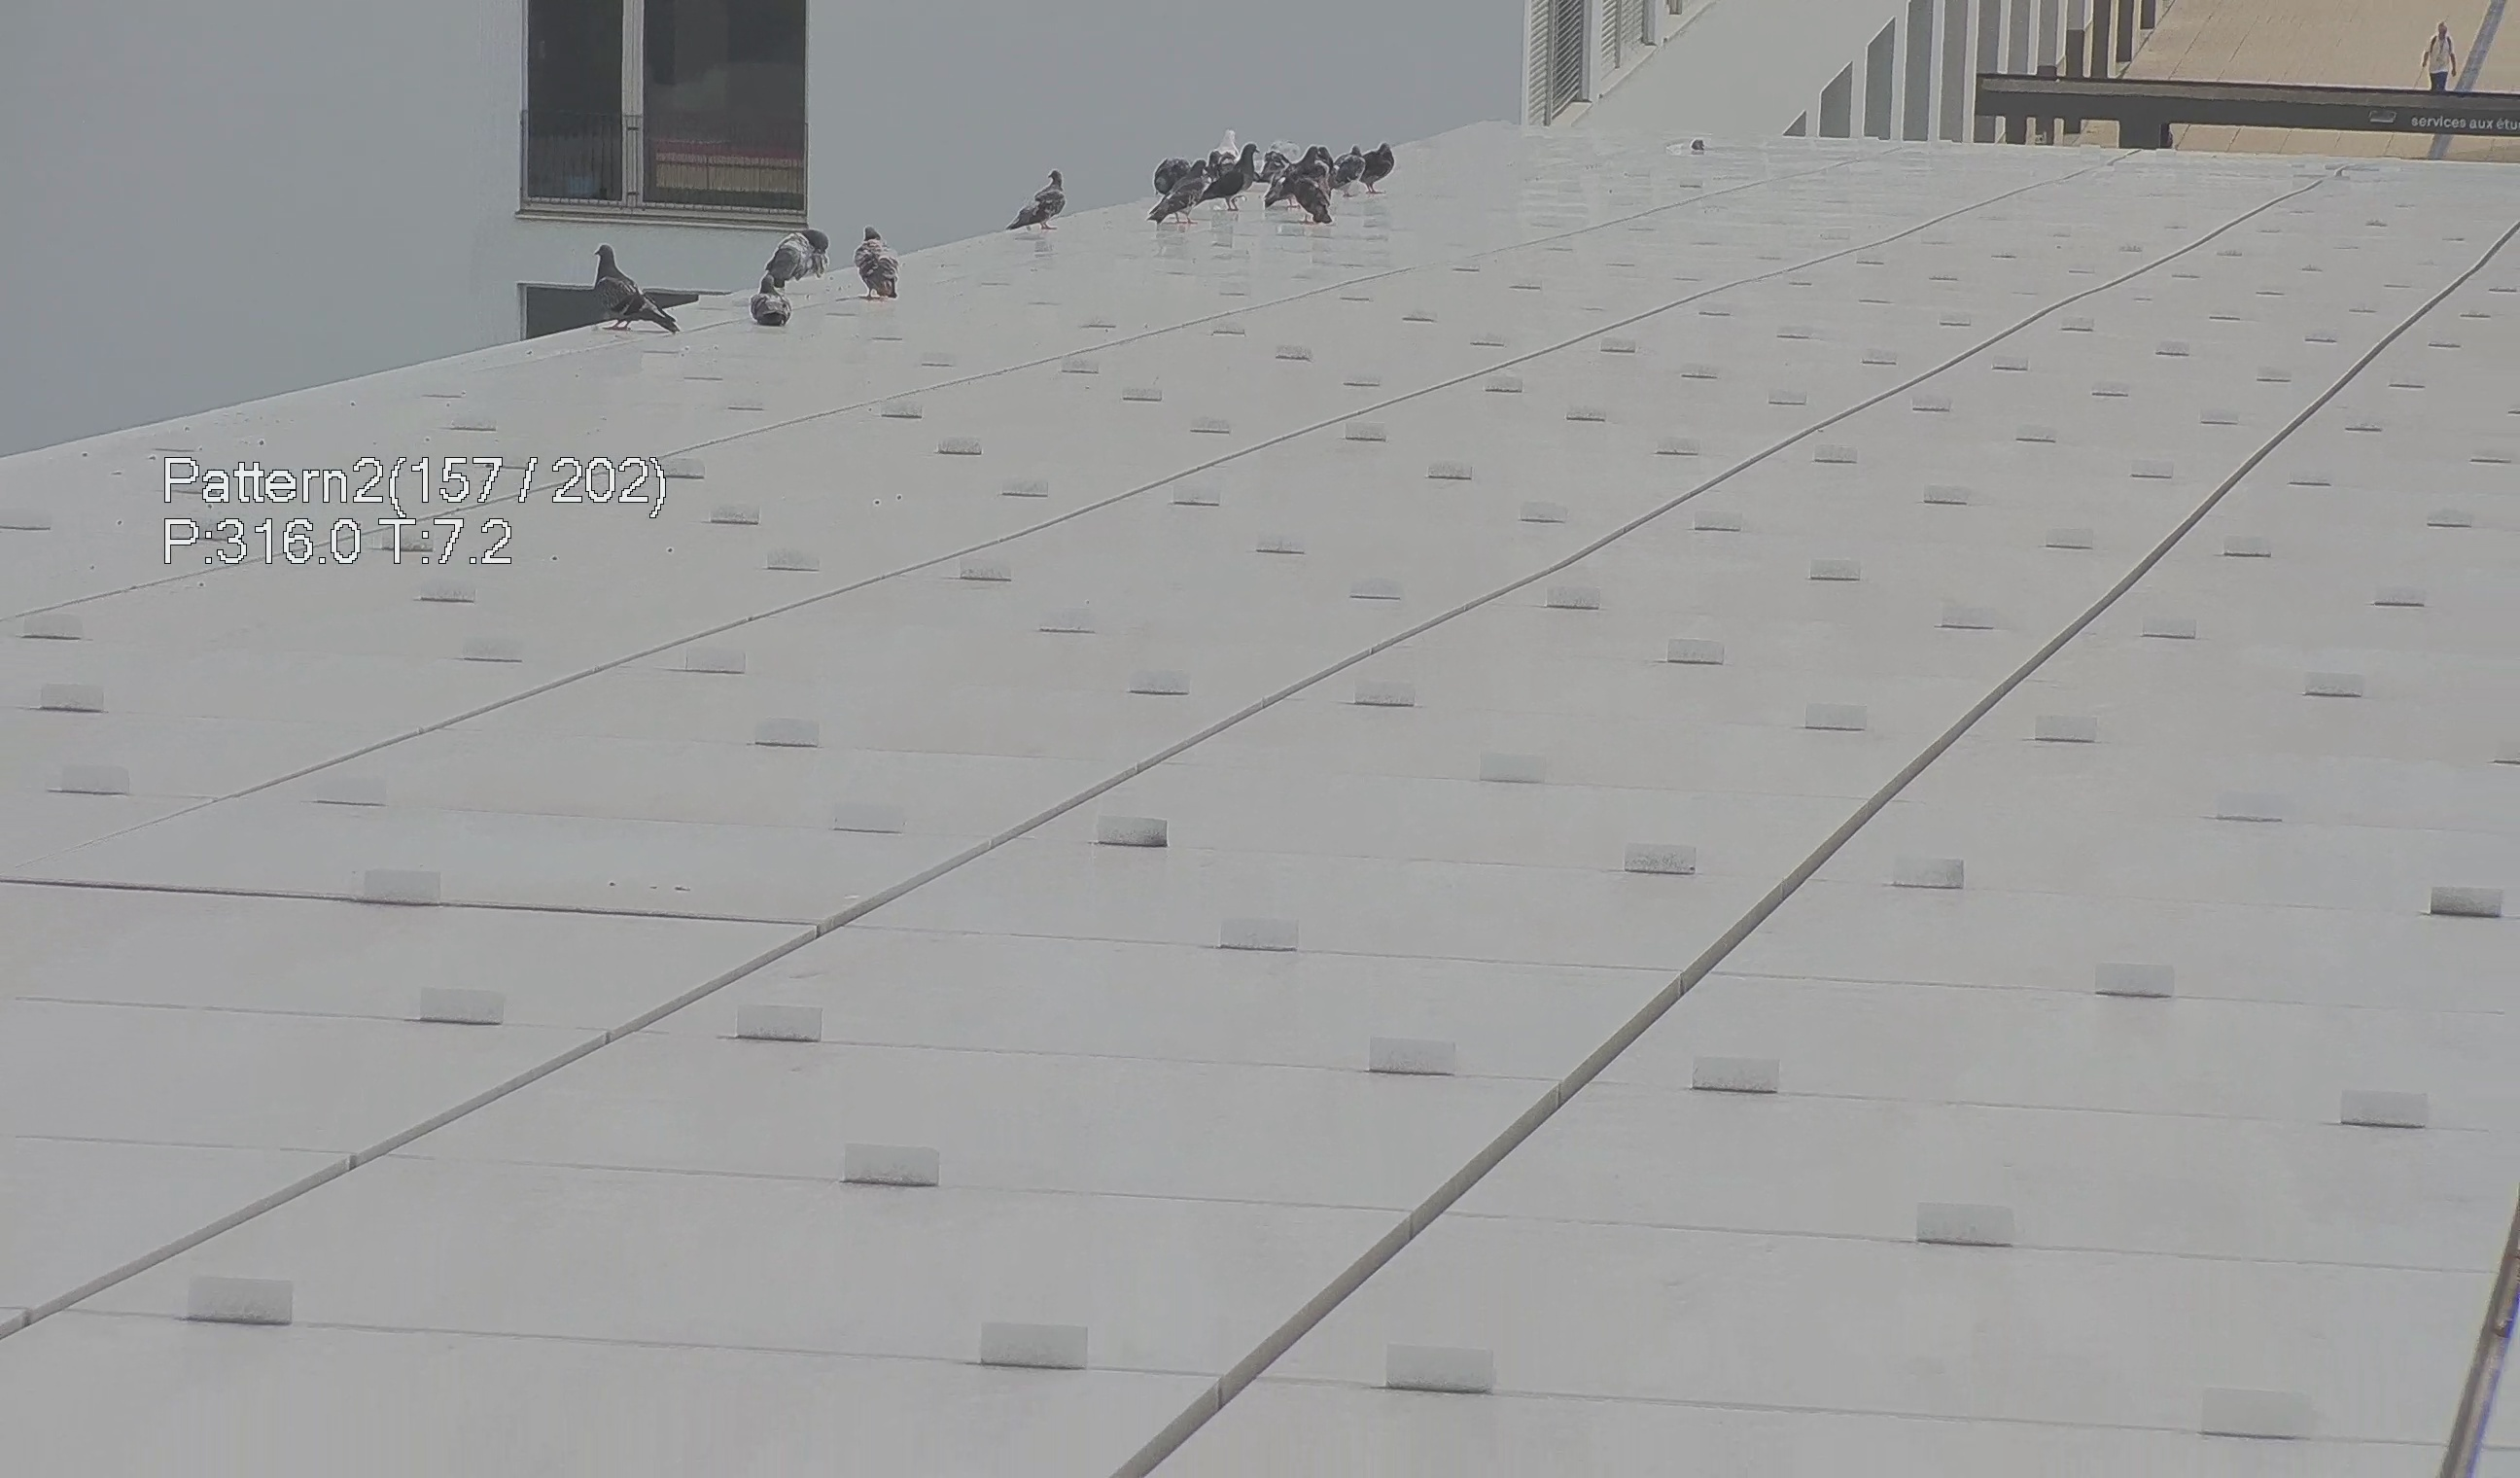Pigeon: (572, 238, 686, 340), (737, 260, 800, 338), (853, 223, 911, 303), (1006, 167, 1071, 238), (765, 225, 835, 285), (1152, 160, 1215, 223), (1264, 144, 1322, 206), (1206, 144, 1259, 208), (1359, 141, 1403, 202), (1294, 171, 1335, 229), (1328, 143, 1366, 195), (1206, 128, 1252, 162), (1148, 157, 1189, 192)
